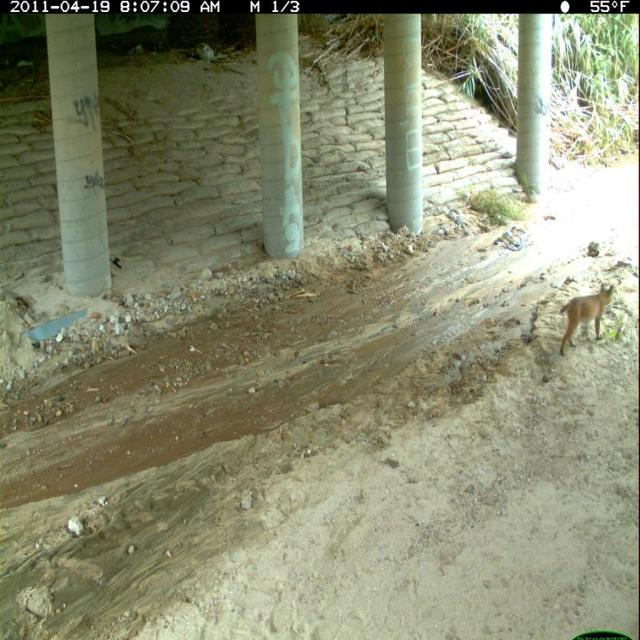bobcat: (558, 281, 617, 364)
